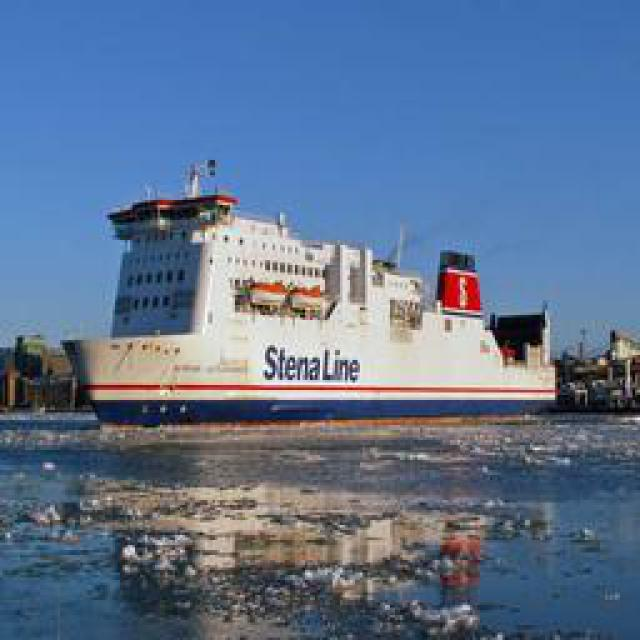Ship: (71, 160, 579, 423)
